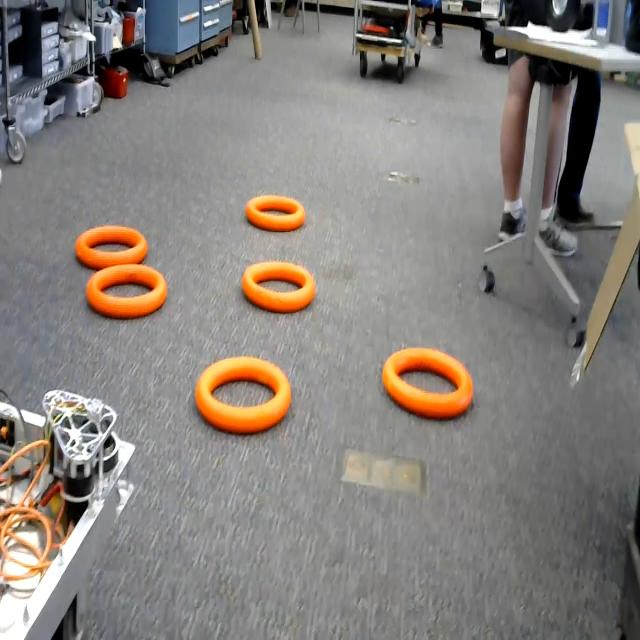note: (70, 219, 177, 323), (188, 348, 301, 437), (380, 338, 475, 427), (236, 256, 323, 314), (243, 186, 310, 243)
